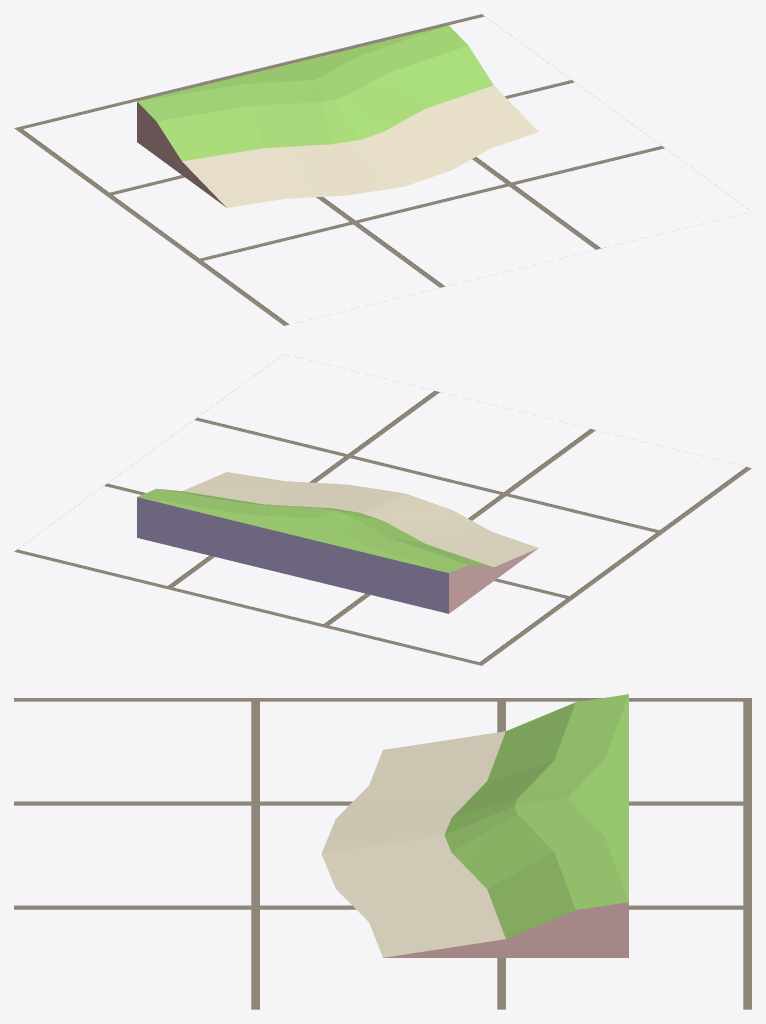
The model's file is Path_Terrain_Deformed_Straight_Convex_2x2.glb.
The picture shows the model from 3 angles, top to bottom: view 1: azimuth 30°, elevation 25°; view 2: azimuth 150°, elevation 25°; view 3: azimuth 270°, elevation 25°; orthographic projection. The views are drawn at different scales.
Visible parts, largest first — view 1: Path_Terrain_Deformed_Straight_Convex_2x2, Floor; view 2: Path_Terrain_Deformed_Straight_Convex_2x2, Floor; view 3: Path_Terrain_Deformed_Straight_Convex_2x2, Floor.
Boxes of the visible parts, <box> form: Path_Terrain_Deformed_Straight_Convex_2x2: <box>137,25,538,207</box>; Floor: <box>14,14,747,325</box>; Path_Terrain_Deformed_Straight_Convex_2x2: <box>137,472,538,613</box>; Floor: <box>14,365,751,665</box>; Path_Terrain_Deformed_Straight_Convex_2x2: <box>321,694,628,957</box>; Floor: <box>14,698,751,1009</box>.
Bounding box in the file's own units: 300 × 25 × 300.
Materials: 6 (1 with a texture image).
